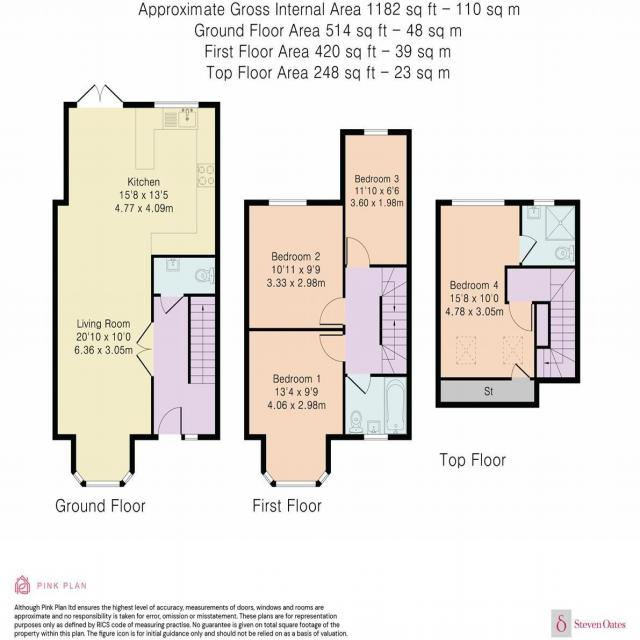DOOR: (157, 405, 183, 441), (508, 300, 534, 332), (319, 333, 346, 363), (346, 236, 371, 268), (319, 297, 346, 326), (159, 292, 185, 317), (519, 234, 539, 264), (346, 373, 372, 396), (511, 362, 531, 381)
DOUBLE DOOR: (73, 81, 127, 109), (134, 314, 154, 380)
ROOM: (52, 80, 222, 489), (435, 199, 539, 381), (243, 327, 346, 488), (243, 199, 346, 332), (339, 128, 412, 270)
WINDOW: (451, 199, 505, 207), (153, 101, 199, 110), (276, 480, 317, 488), (268, 199, 307, 207), (84, 480, 121, 488), (120, 469, 134, 485), (71, 469, 84, 486), (363, 128, 389, 136), (363, 433, 389, 441), (317, 470, 330, 485), (262, 470, 274, 485), (533, 199, 555, 206), (184, 433, 199, 441)
